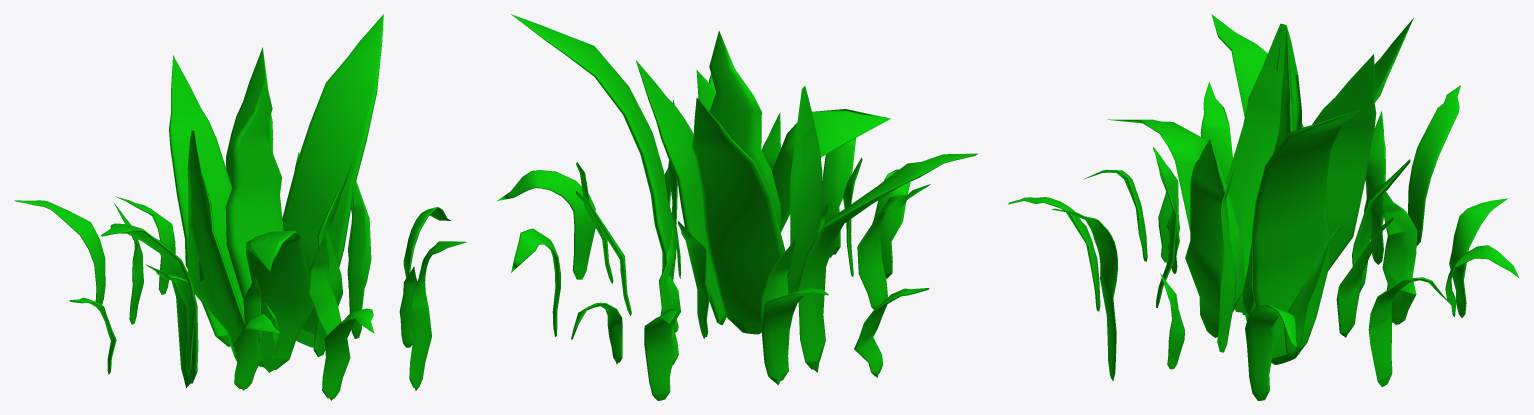
File: grass.fbx
The picture shows the model from 3 angles, left to right: view 1: azimuth 30°, elevation 25°; view 2: azimuth 150°, elevation 25°; view 3: azimuth 270°, elevation 25°; orthographic projection. The views are drawn at different scales.
Parts seen in each view (by area): view 1: polySurface28; view 2: polySurface28; view 3: polySurface28.
Boxes of the visible parts, x1,y1,x2,y2 form: polySurface28: [14, 14, 466, 400]; polySurface28: [496, 14, 978, 400]; polySurface28: [1008, 14, 1519, 400].
Size of the model in its own units: 175 by 124 by 175.
